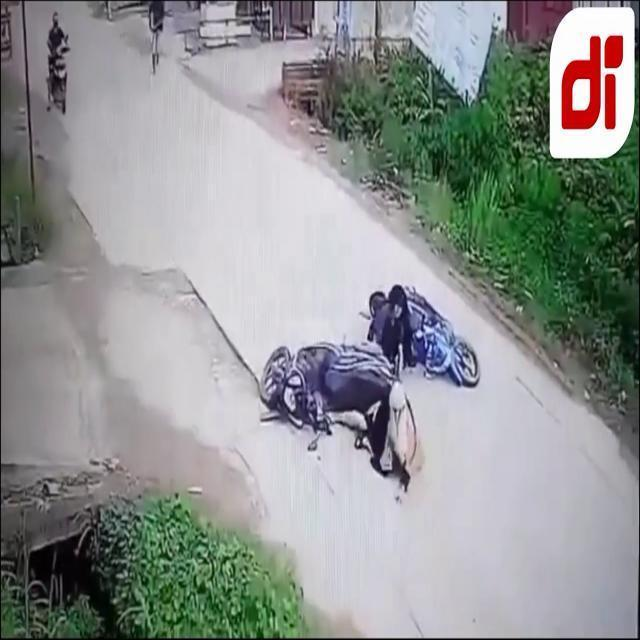accident: (258, 278, 484, 504)
